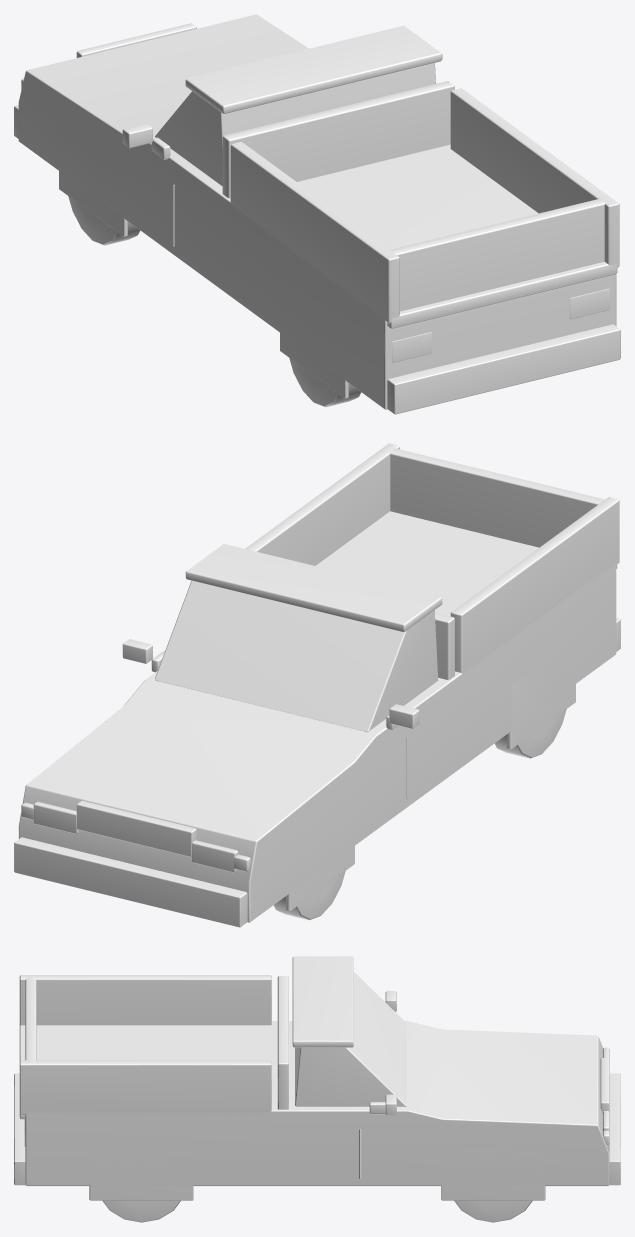
Rendered from pickup.glb.
3 views of the same model, one above another, from view 1: azimuth 30°, elevation 25°; view 2: azimuth 150°, elevation 25°; view 3: azimuth 270°, elevation 25° (orthographic). The views are drawn at different scales.
Visible parts, largest first — view 1: Body.003, Trim.003, Glass.003, Lamps.003, Wheel_FL.003, Wheel_RL.003; view 2: Body.003, Glass.003, Trim.003, Lamps.003, Wheel_RL.003, Wheel_FL.003; view 3: Body.003, Trim.003, Glass.003, Wheel_FR.003, Wheel_RR.003.
Boxes of the visible parts, <box> form: Body.003: <box>18,14,619,409</box>; Trim.003: <box>14,23,620,414</box>; Glass.003: <box>155,63,435,186</box>; Lamps.003: <box>21,78,609,362</box>; Wheel_FL.003: <box>68,196,140,245</box>; Wheel_RL.003: <box>289,358,361,407</box>; Body.003: <box>18,443,619,922</box>; Glass.003: <box>155,581,438,732</box>; Trim.003: <box>14,618,620,927</box>; Lamps.003: <box>21,801,250,872</box>; Wheel_RL.003: <box>494,709,566,758</box>; Wheel_FL.003: <box>273,871,345,920</box>; Body.003: <box>19,956,609,1186</box>; Trim.003: <box>14,991,620,1200</box>; Glass.003: <box>295,972,407,1106</box>; Wheel_FR.003: <box>454,1200,532,1222</box>; Wheel_RR.003: <box>102,1200,180,1222</box>.
Size of the model in its own units: 2.36 by 1.75 by 5.35.
1 material, 1 textured.
